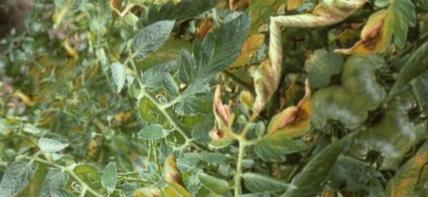Tomato Early blight leaf: (205, 12, 316, 123), (243, 80, 333, 172), (180, 80, 254, 154), (146, 148, 225, 197), (355, 152, 428, 197)
Tomato leaf: (171, 4, 265, 100), (268, 127, 367, 197), (125, 9, 180, 66)
